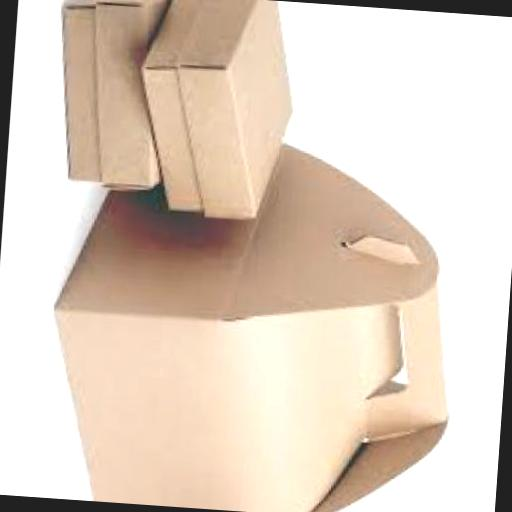cardboard: (41, 131, 469, 512), (129, 0, 304, 230), (52, 0, 181, 195)
